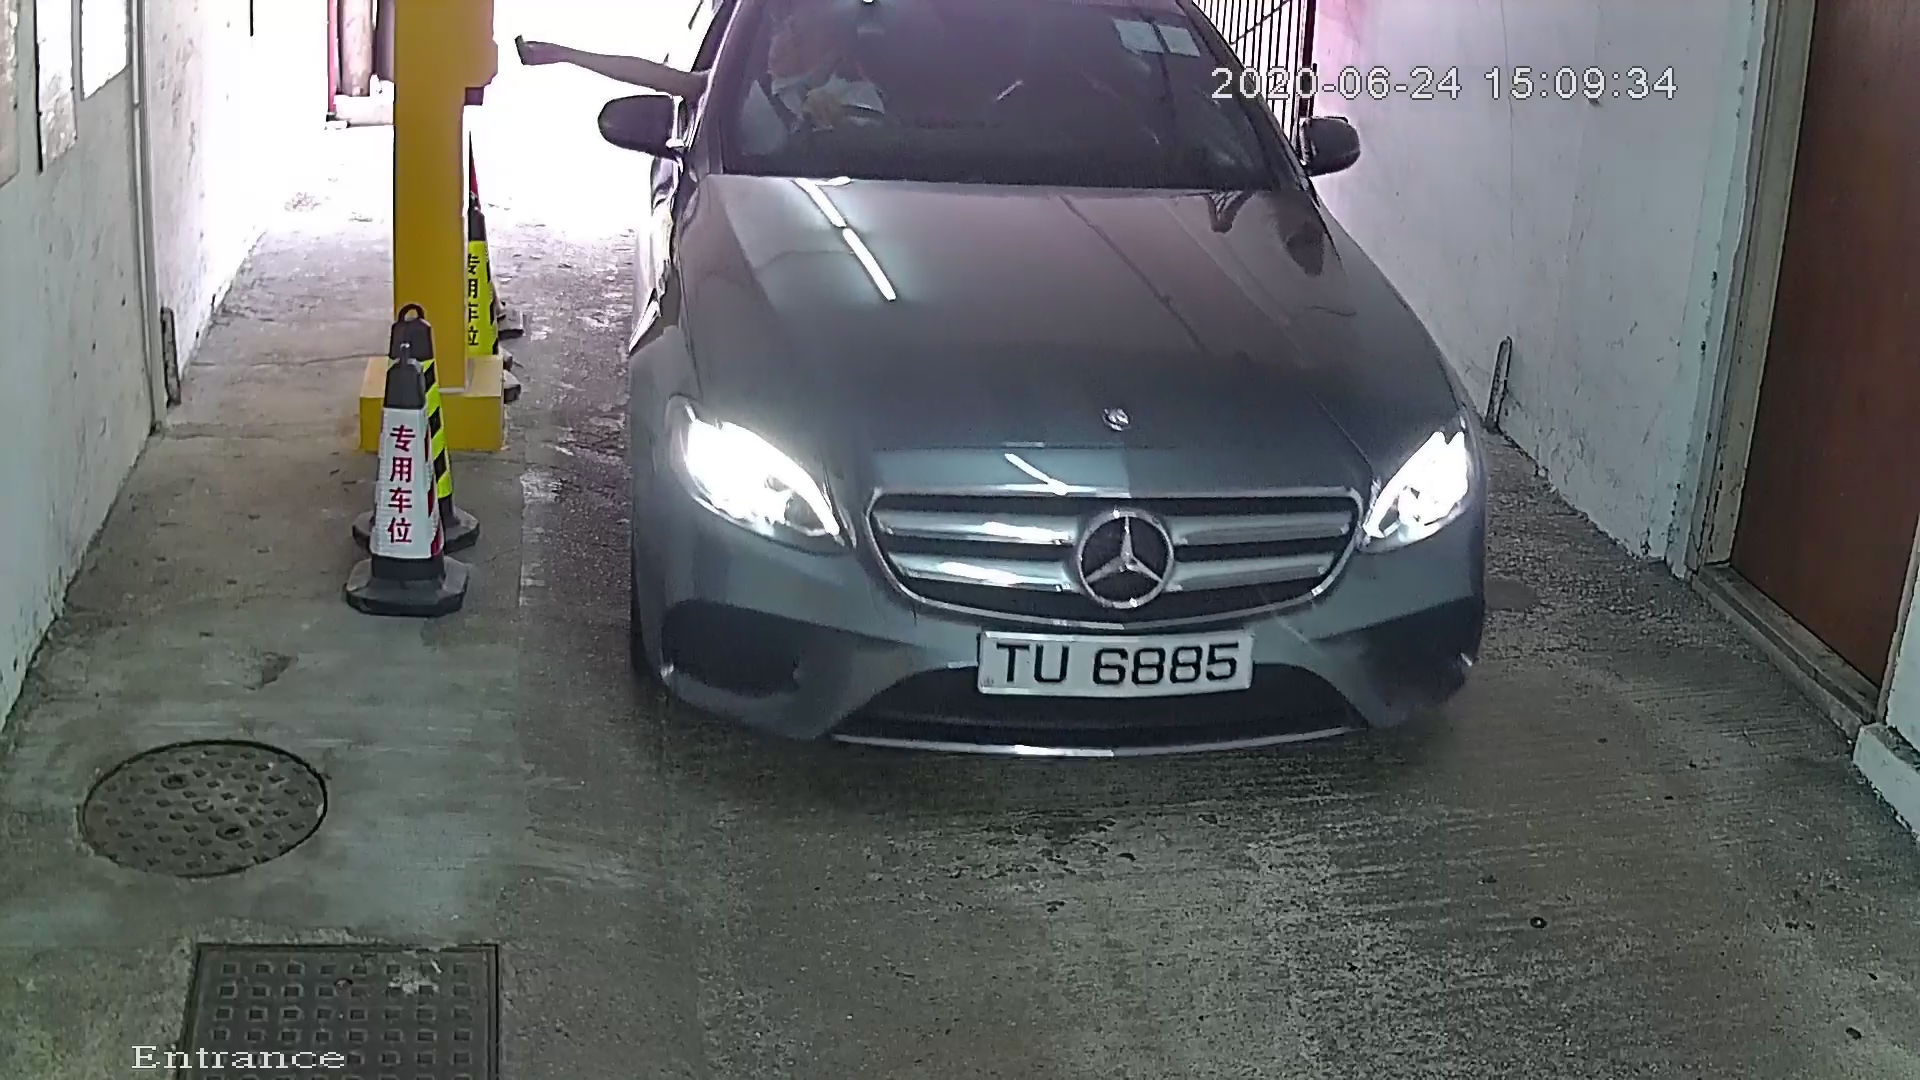Car: (576, 1, 1500, 830)
License Plate: (965, 617, 1275, 712)
